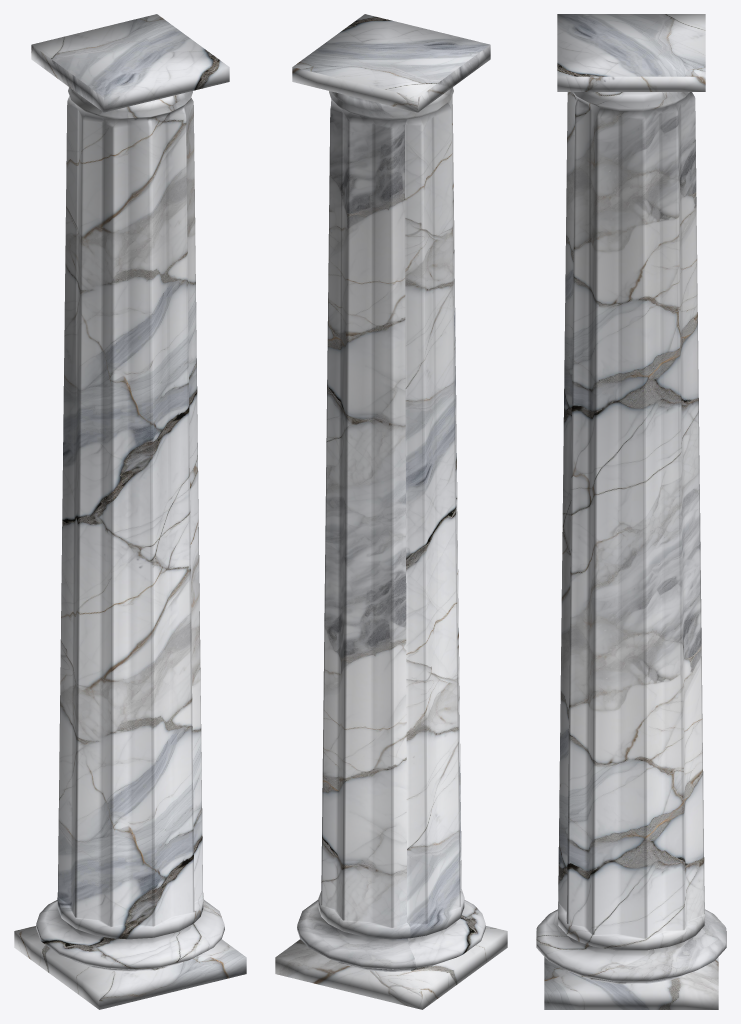
The model's file is mdl_apa_column.glb.
The picture shows the model from 3 angles, left to right: view 1: azimuth 30°, elevation 25°; view 2: azimuth 150°, elevation 25°; view 3: azimuth 270°, elevation 25°; orthographic projection. The views are drawn at different scales.
Visible parts, largest first — view 1: Column_01; view 2: Column_01; view 3: Column_01.
Boxes of the visible parts, bbox=[...] form: Column_01: bbox=[14, 14, 246, 1009]; Column_01: bbox=[275, 14, 507, 1009]; Column_01: bbox=[536, 14, 726, 1009].
Size of what is drawn, in the model's own units: 2.18 by 11.75 by 2.18.
Materials: 1 (1 with a texture image).
